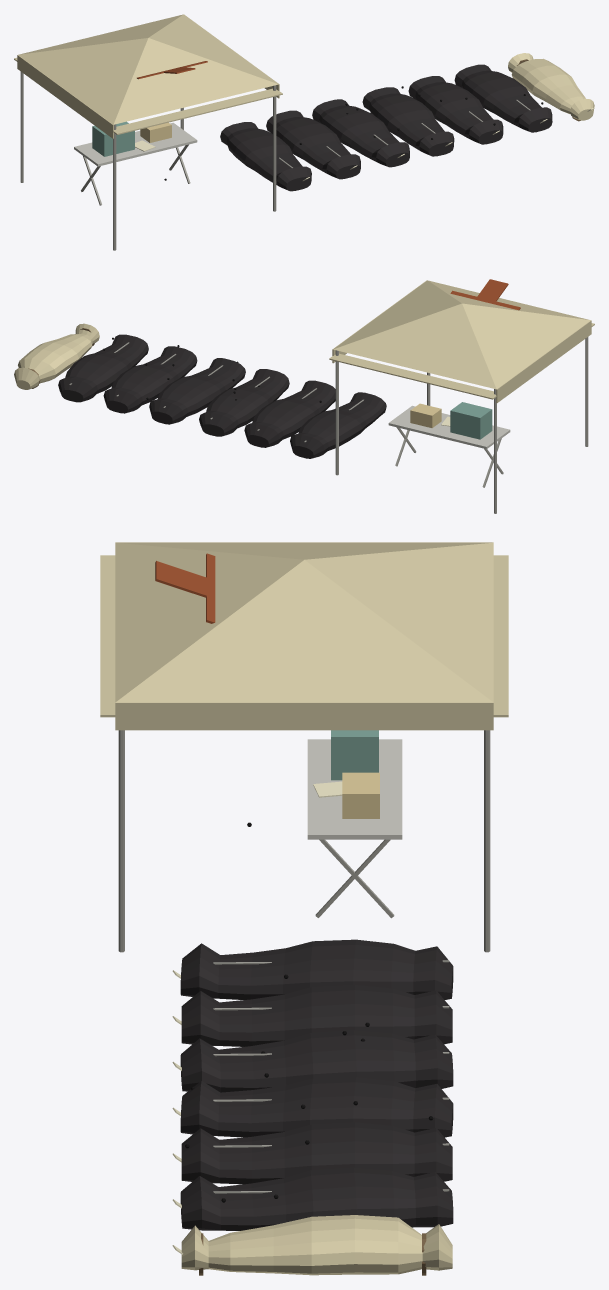
The model's file is bag_row.glb.
3 views of the same model, one above another, from view 1: azimuth 30°, elevation 25°; view 2: azimuth 150°, elevation 25°; view 3: azimuth 270°, elevation 25° (orthographic). The views are drawn at different scales.
Parts seen in each view (by area): view 1: bag_row; view 2: bag_row; view 3: bag_row.
Part boxes in pixels (<box>): bag_row: <box>14,14,594,250</box>; bag_row: <box>14,279,594,513</box>; bag_row: <box>100,542,508,1275</box>.
Size of the model in its own units: 9.24 by 2.81 by 3.24.
